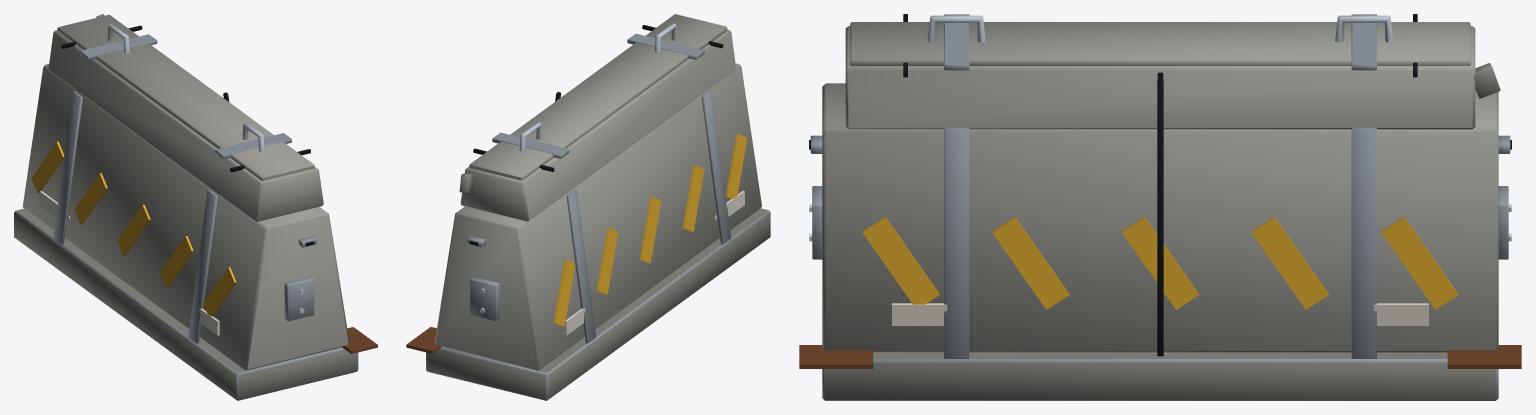
The model's file is barricada_hormigon.glb.
The picture shows the model from 3 angles, left to right: view 1: azimuth 30°, elevation 25°; view 2: azimuth 150°, elevation 25°; view 3: azimuth 270°, elevation 25°; orthographic projection. The views are drawn at different scales.
Visible parts, largest first — view 1: cuerpo_hormigon, remate, base_hormigon, tapa, fleje_trasero_2, fleje_trasero_1, placa_anclaje_1, franja_peligro_2, franja_peligro_3, franja_peligro_4, franja_peligro_5, franja_peligro_1 (+3 smaller); view 2: cuerpo_hormigon, remate, base_hormigon, tapa, fleje_trasero_1, fleje_trasero_2, placa_anclaje_2, franja_peligro_5, franja_peligro_3, franja_peligro_2, franja_peligro_4, franja_peligro_1 (+4 smaller); view 3: cuerpo_hormigon, remate, base_hormigon, tapa, fleje_frente_1, fleje_frente_2, franja_peligro_9, franja_peligro_7, franja_peligro_10, franja_peligro_6, franja_peligro_8, junta_central (+11 smaller).
Boxes of the visible parts, box(x1,y1,x2,y2) form: cuerpo_hormigon: box(22, 64, 349, 370); remate: box(48, 30, 323, 221); base_hormigon: box(14, 208, 358, 400); tapa: box(57, 14, 314, 180); fleje_trasero_2: box(53, 91, 82, 244); fleje_trasero_1: box(188, 190, 217, 343); placa_anclaje_1: box(284, 277, 314, 321); franja_peligro_2: box(160, 236, 193, 287); franja_peligro_3: box(117, 204, 150, 255); franja_peligro_4: box(74, 173, 107, 224); franja_peligro_5: box(31, 141, 63, 193); franja_peligro_1: box(203, 267, 236, 316); cuerpo_hormigon: box(434, 63, 761, 370); remate: box(460, 29, 736, 221); base_hormigon: box(426, 208, 770, 400); tapa: box(469, 14, 727, 180); fleje_trasero_1: box(701, 90, 731, 244); fleje_trasero_2: box(566, 189, 596, 343); placa_anclaje_2: box(470, 277, 499, 321); franja_peligro_5: box(553, 259, 575, 326); franja_peligro_3: box(639, 196, 661, 263); franja_peligro_2: box(682, 165, 704, 231); franja_peligro_4: box(596, 228, 618, 294); franja_peligro_1: box(725, 133, 747, 198); cuerpo_hormigon: box(822, 83, 1498, 352); remate: box(845, 26, 1475, 129); base_hormigon: box(822, 352, 1498, 400); tapa: box(850, 22, 1470, 65); fleje_frente_1: box(944, 127, 969, 358); fleje_frente_2: box(1351, 127, 1376, 358); franja_peligro_9: box(1251, 216, 1328, 309); franja_peligro_7: box(992, 217, 1069, 309); franja_peligro_10: box(1381, 217, 1458, 309); franja_peligro_6: box(862, 216, 939, 309); franja_peligro_8: box(1121, 216, 1199, 309); junta_central: box(1157, 80, 1163, 356).
Size of the model in its own units: 0.5029 by 0.8123 by 1.56.
